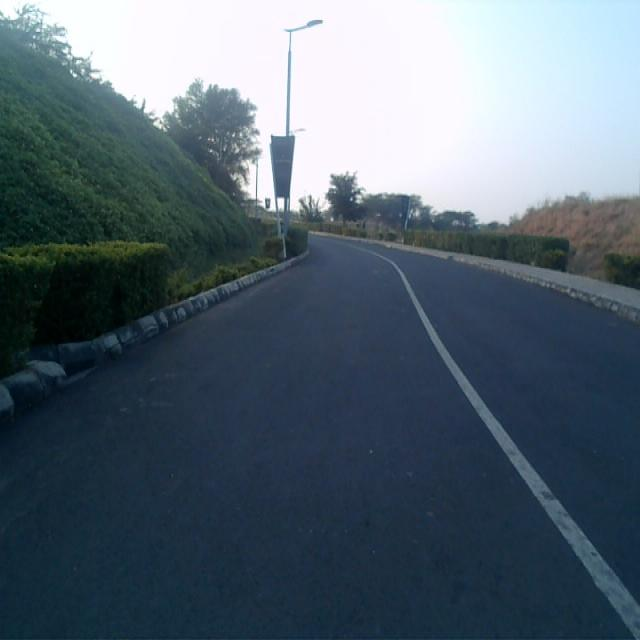lane: (0, 240, 640, 640)
